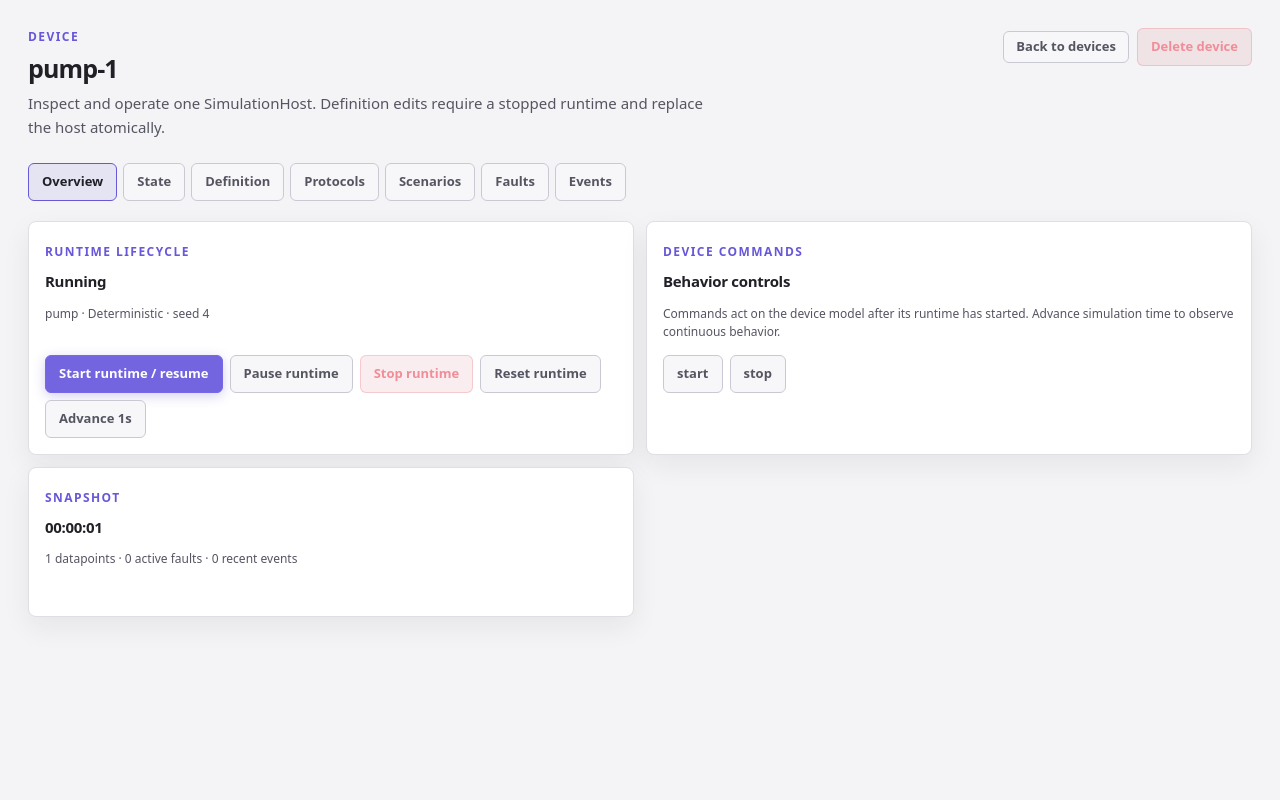
Test: device details › loads all detail sections and prevents structural editing while running
Click the button "definition" at (238, 182), box top-left (191, 163), bottom-right (284, 201)
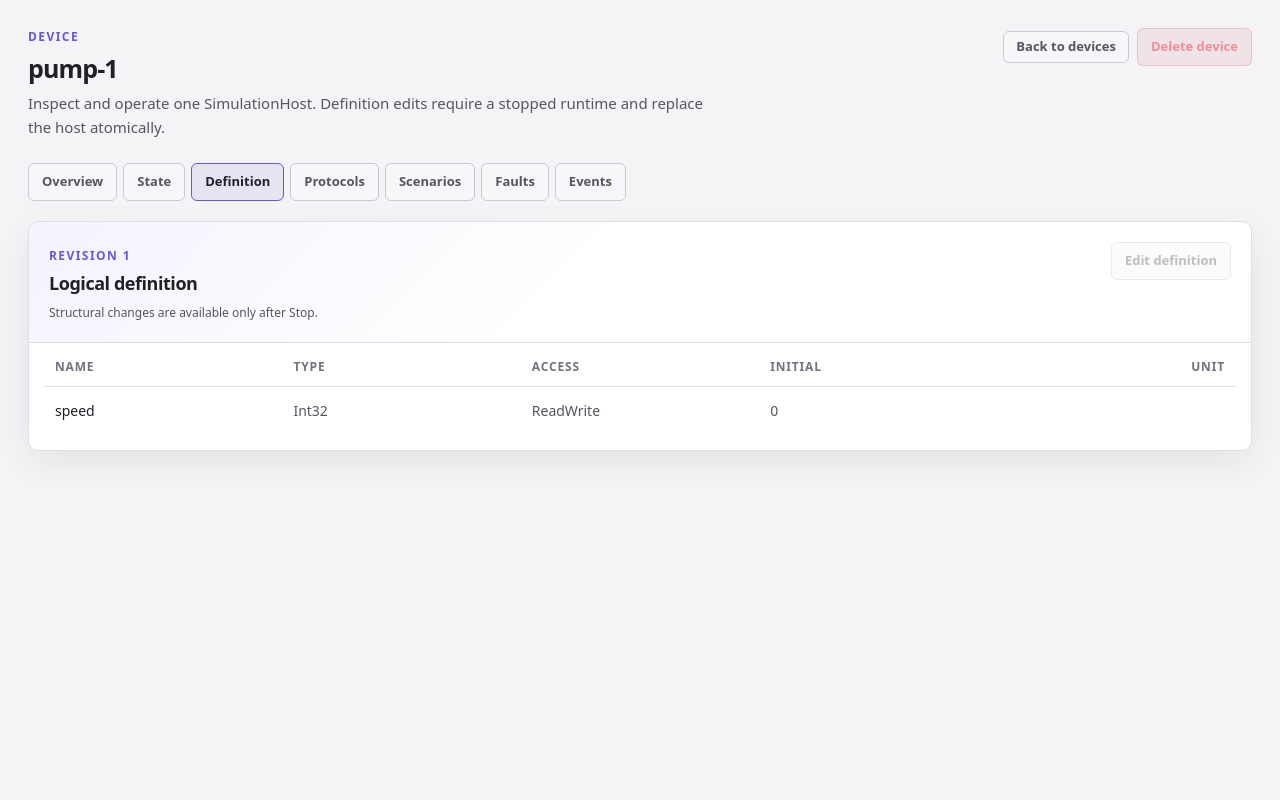
expect the button "Edit definition" is shown: met, box top-left (1111, 242), bottom-right (1231, 280)
